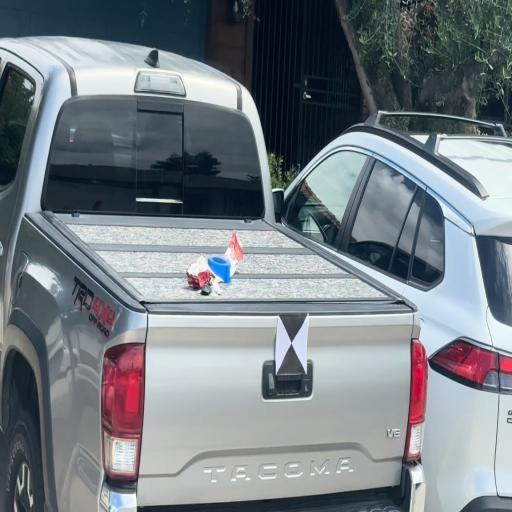target: (276, 313, 309, 375)
